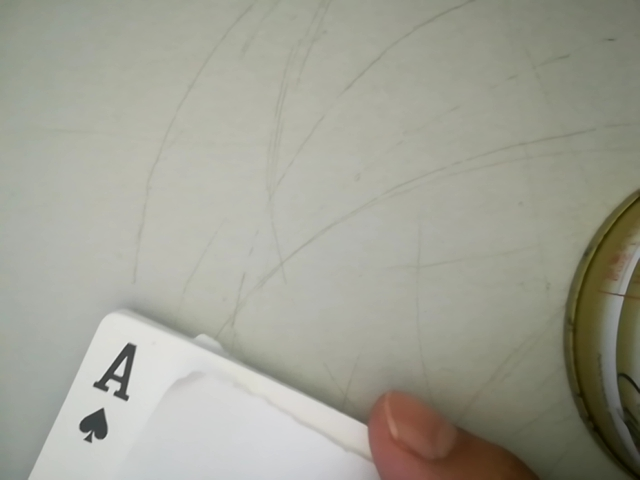ht a: (69, 328, 140, 454)
